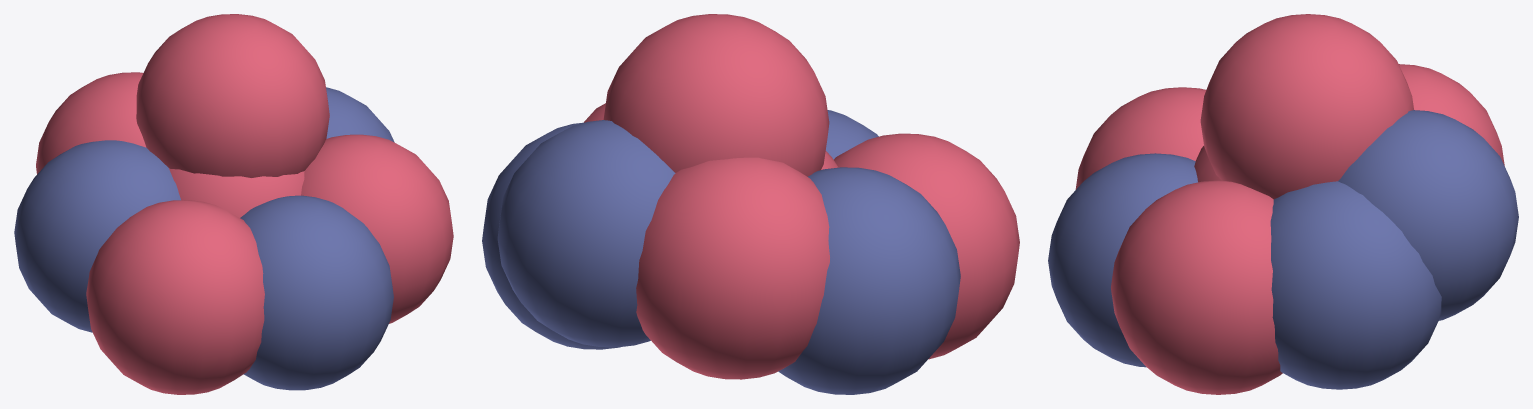
File: nucleus.glb
3 views of the same model, side by side, from view 1: azimuth 30°, elevation 25°; view 2: azimuth 150°, elevation 25°; view 3: azimuth 270°, elevation 25° (orthographic). The views are drawn at different scales.
Visible parts, largest first — view 1: nucleus_nuclear_coral, nucleus_nuclear_indigo; view 2: nucleus_nuclear_coral, nucleus_nuclear_indigo; view 3: nucleus_nuclear_coral, nucleus_nuclear_indigo.
Boxes of the visible parts, left/top/right/bottom form: nucleus_nuclear_coral: left=36, top=14, right=453, bottom=394; nucleus_nuclear_indigo: left=14, top=87, right=394, bottom=390; nucleus_nuclear_coral: left=584, top=14, right=1019, bottom=379; nucleus_nuclear_indigo: left=482, top=110, right=960, bottom=394; nucleus_nuclear_coral: left=1075, top=14, right=1504, bottom=394; nucleus_nuclear_indigo: left=1048, top=110, right=1518, bottom=389.
Size of the model in its own units: 2.12 by 1.66 by 2.1.
